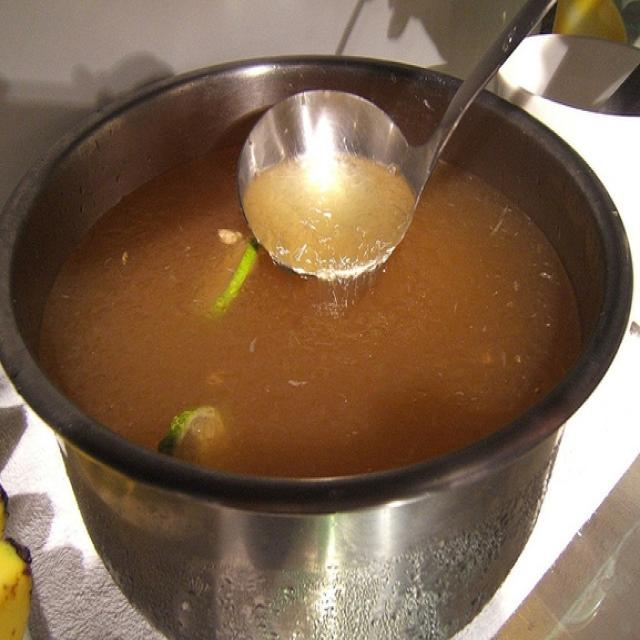蛋糕甜品: (40, 80, 609, 511)
